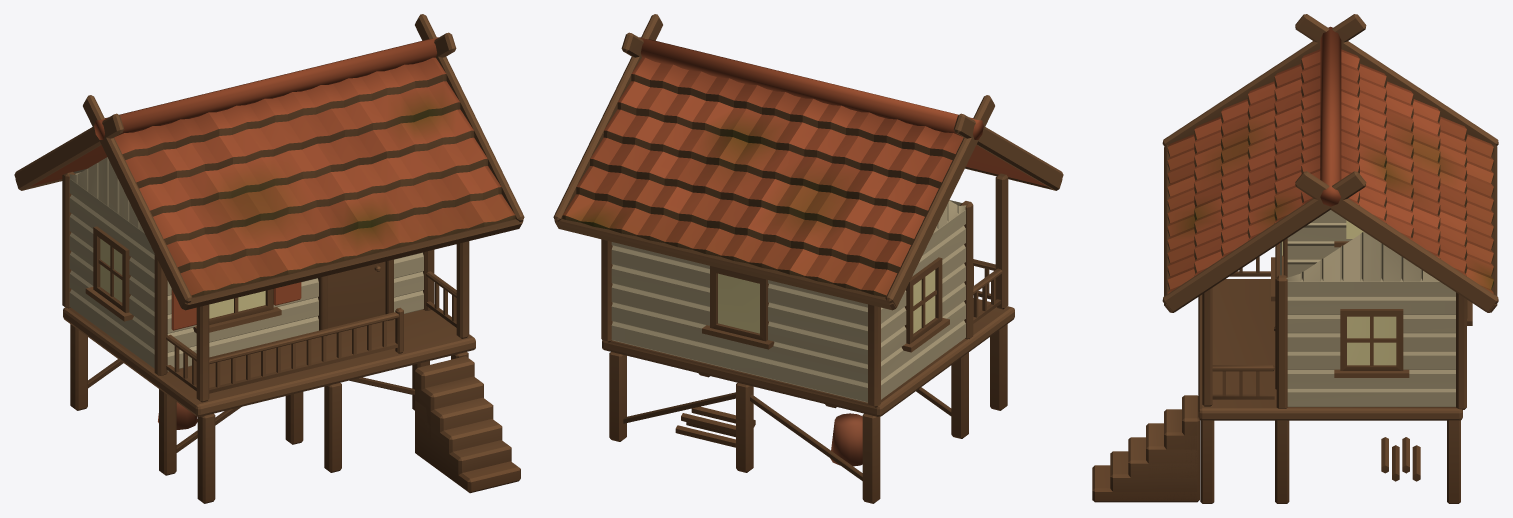
Rendered from rumah_d.glb.
The picture shows the model from 3 angles, left to right: view 1: azimuth 30°, elevation 25°; view 2: azimuth 150°, elevation 25°; view 3: azimuth 270°, elevation 25°; orthographic projection. The views are drawn at different scales.
Visible parts, largest first — view 1: rumah_d_mesh; view 2: rumah_d_mesh; view 3: rumah_d_mesh.
Part boxes in pixels (x1=…): rumah_d_mesh: x1=14, y1=14, x2=524, y2=503; rumah_d_mesh: x1=553, y1=14, x2=1063, y2=503; rumah_d_mesh: x1=1092, y1=14, x2=1498, y2=503.
Bounding box in the file's own units: 5.1 × 5.15 × 5.44.
